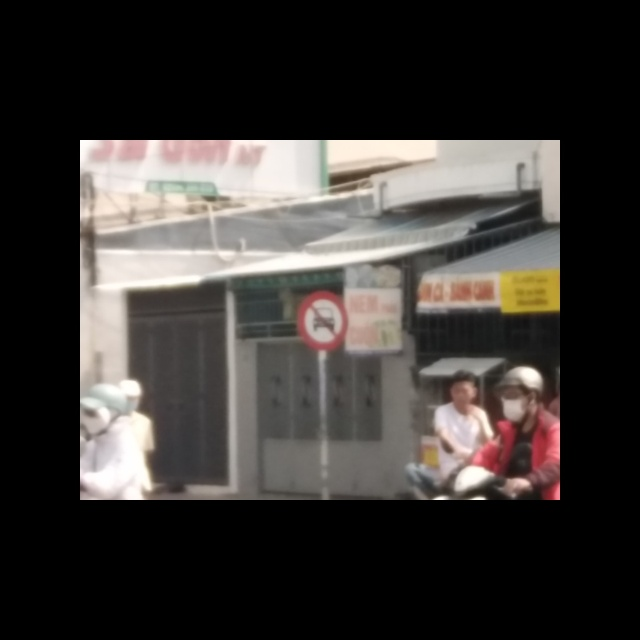Cấm xe ô tô: (296, 291, 354, 351)
